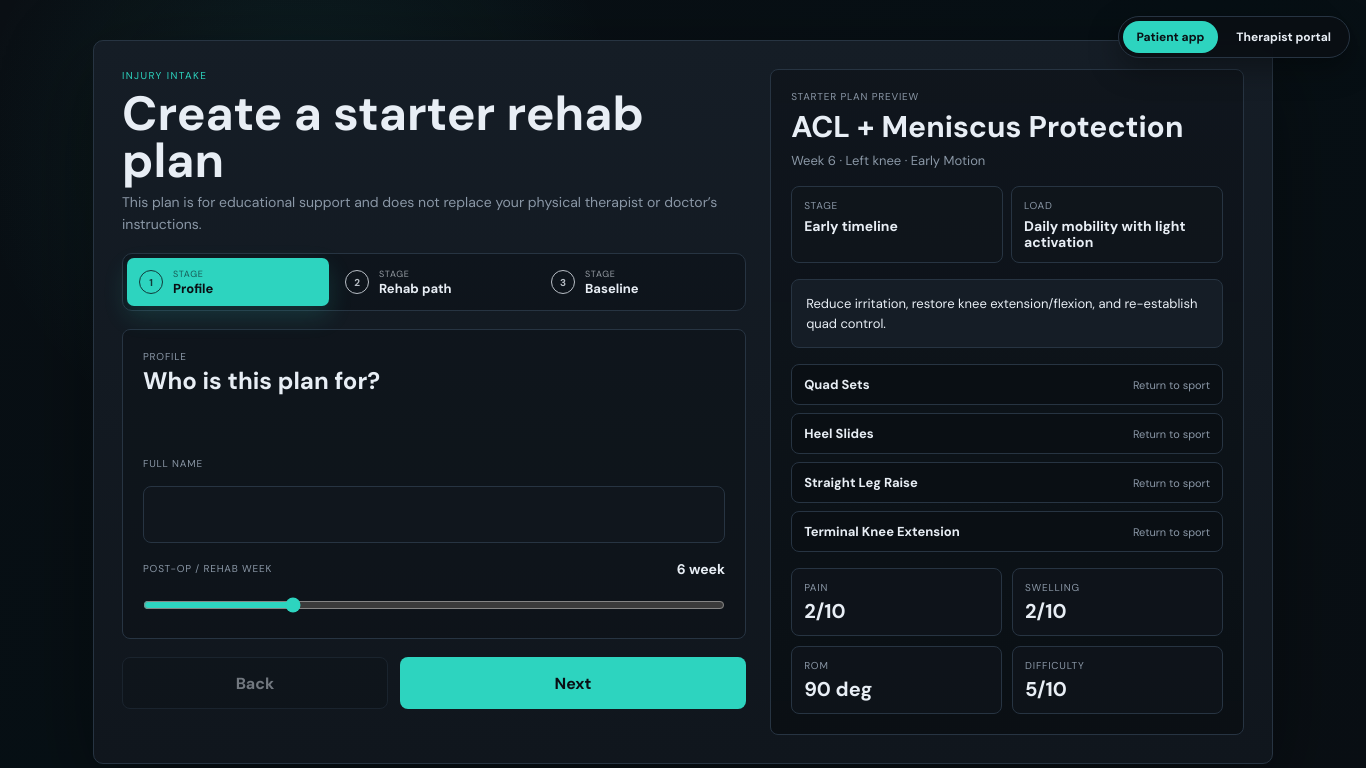
Test case: App Supabase patient MVP flow › shows Achilles-specific intake choices and preview exercises
Step 1. Type "Demo Athlete" into the field labelled "Full name" → (434, 514), box [143,486,725,543]
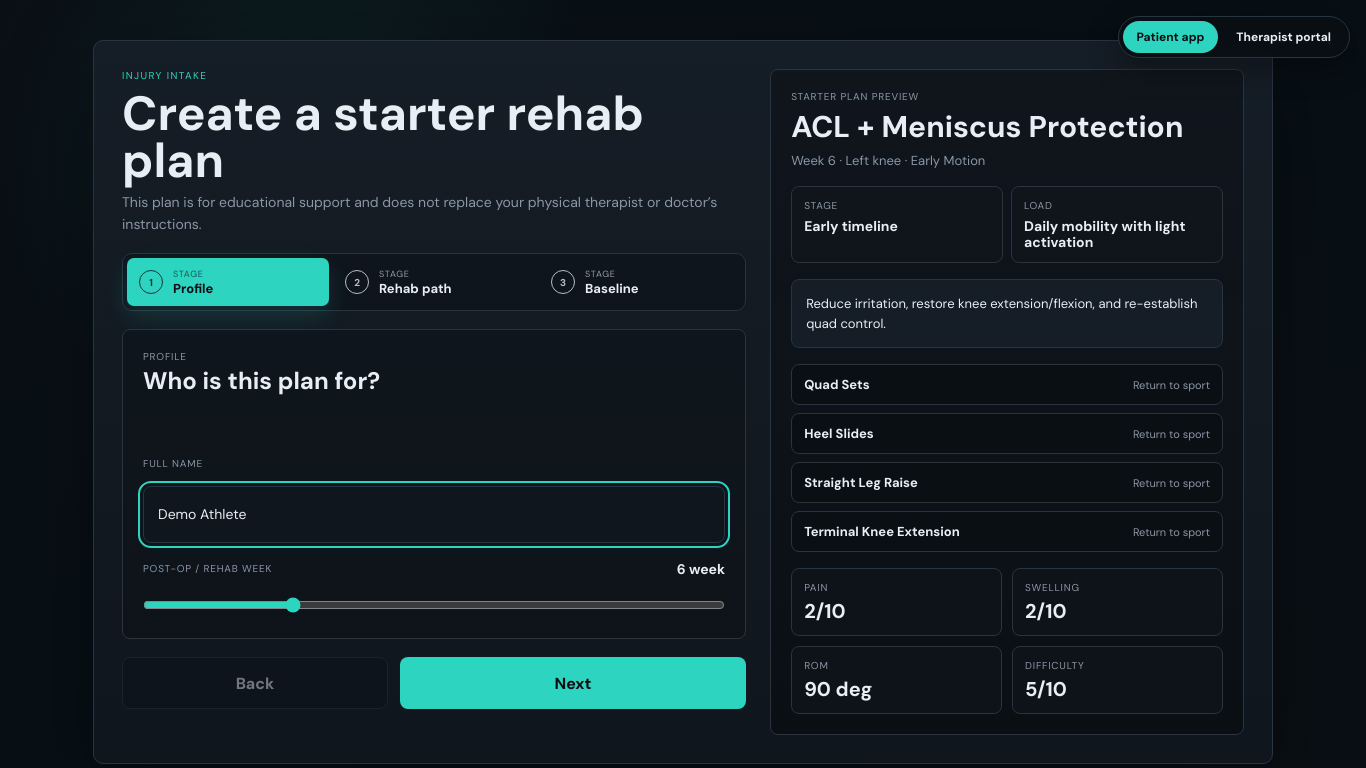
Step 2. Click the button "Next" → (573, 683), box [400,657,746,709]
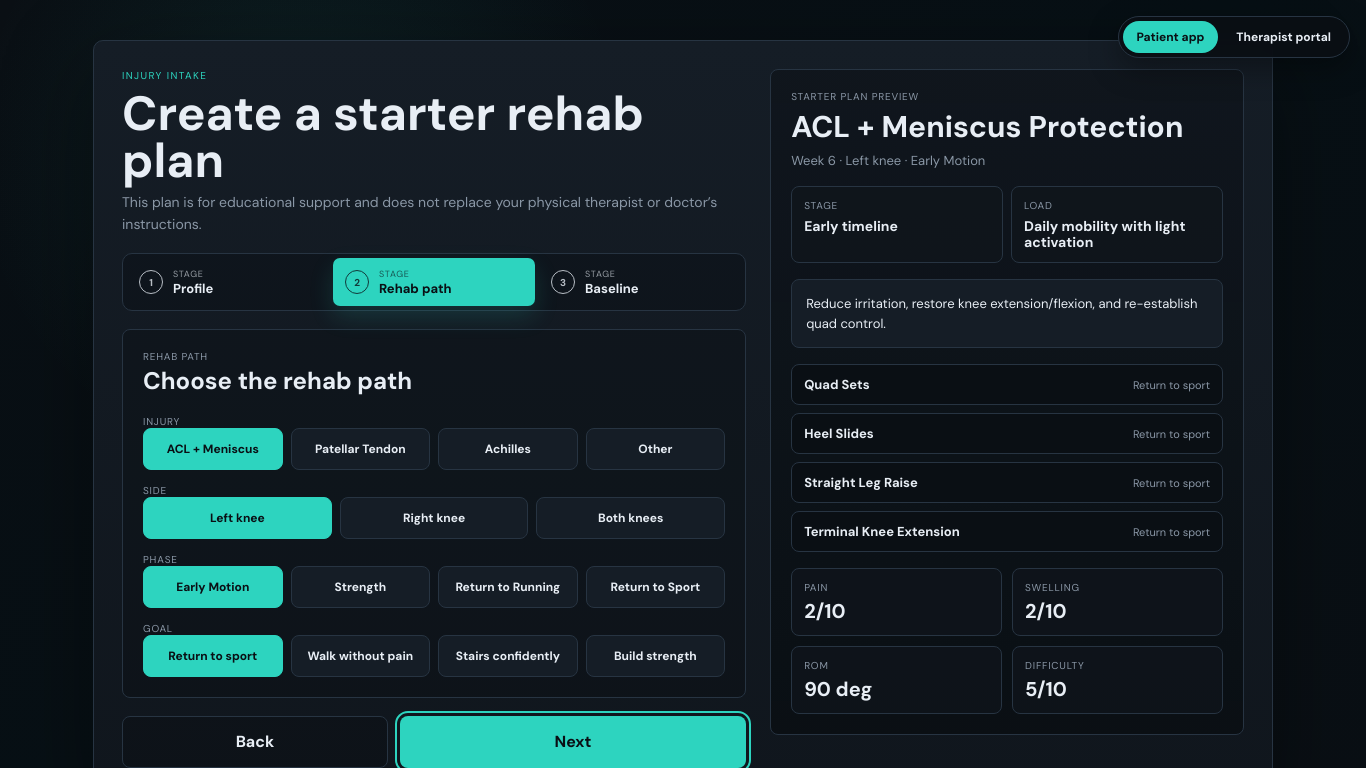
Step 3. Click the button "Achilles" → (508, 449), box [438,428,578,470]
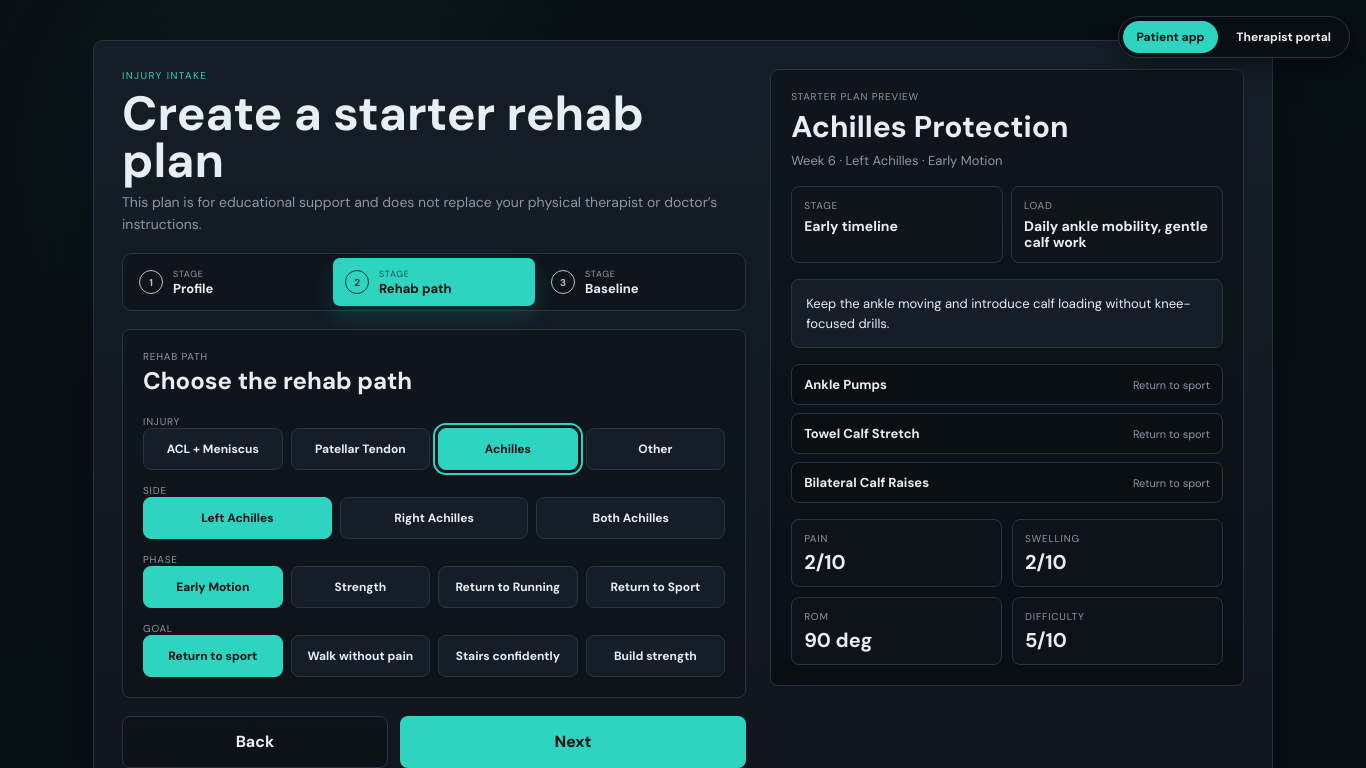
Check: the button "Left Achilles" is shown, box [143,497,332,539]
Check: the heading "Achilles Protection" is shown, box [791,107,1069,146]
Check: the text "Ankle Pumps" is shown, box [804,376,887,393]
